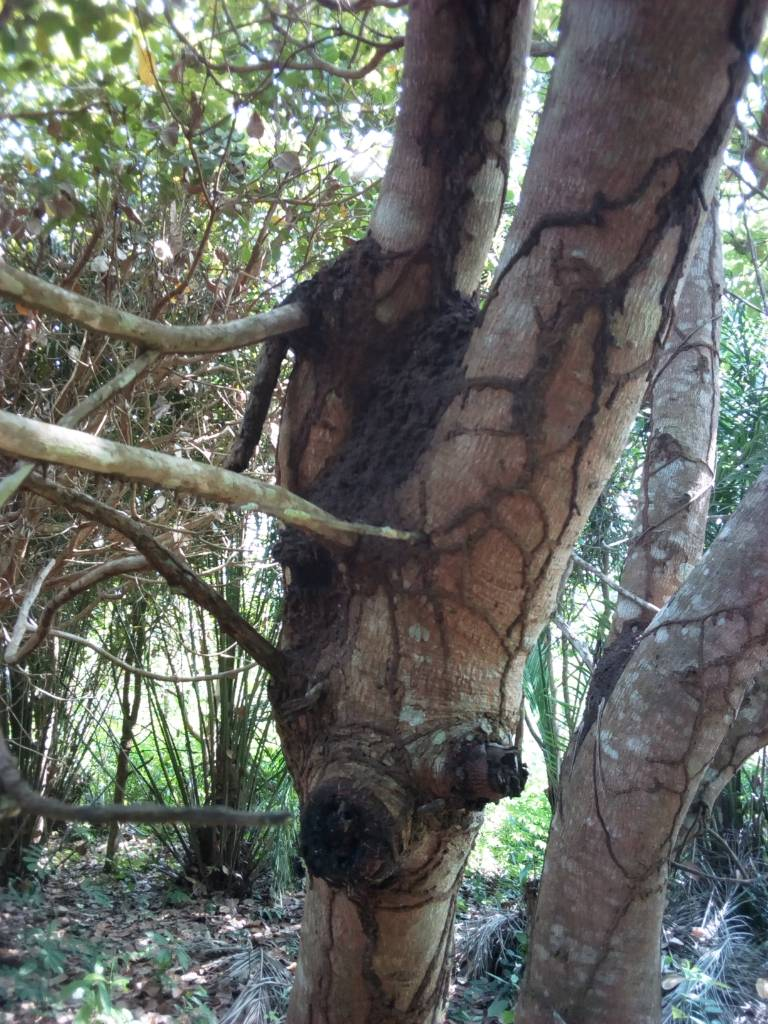Termites: (482, 2, 741, 546), (274, 244, 469, 544)
